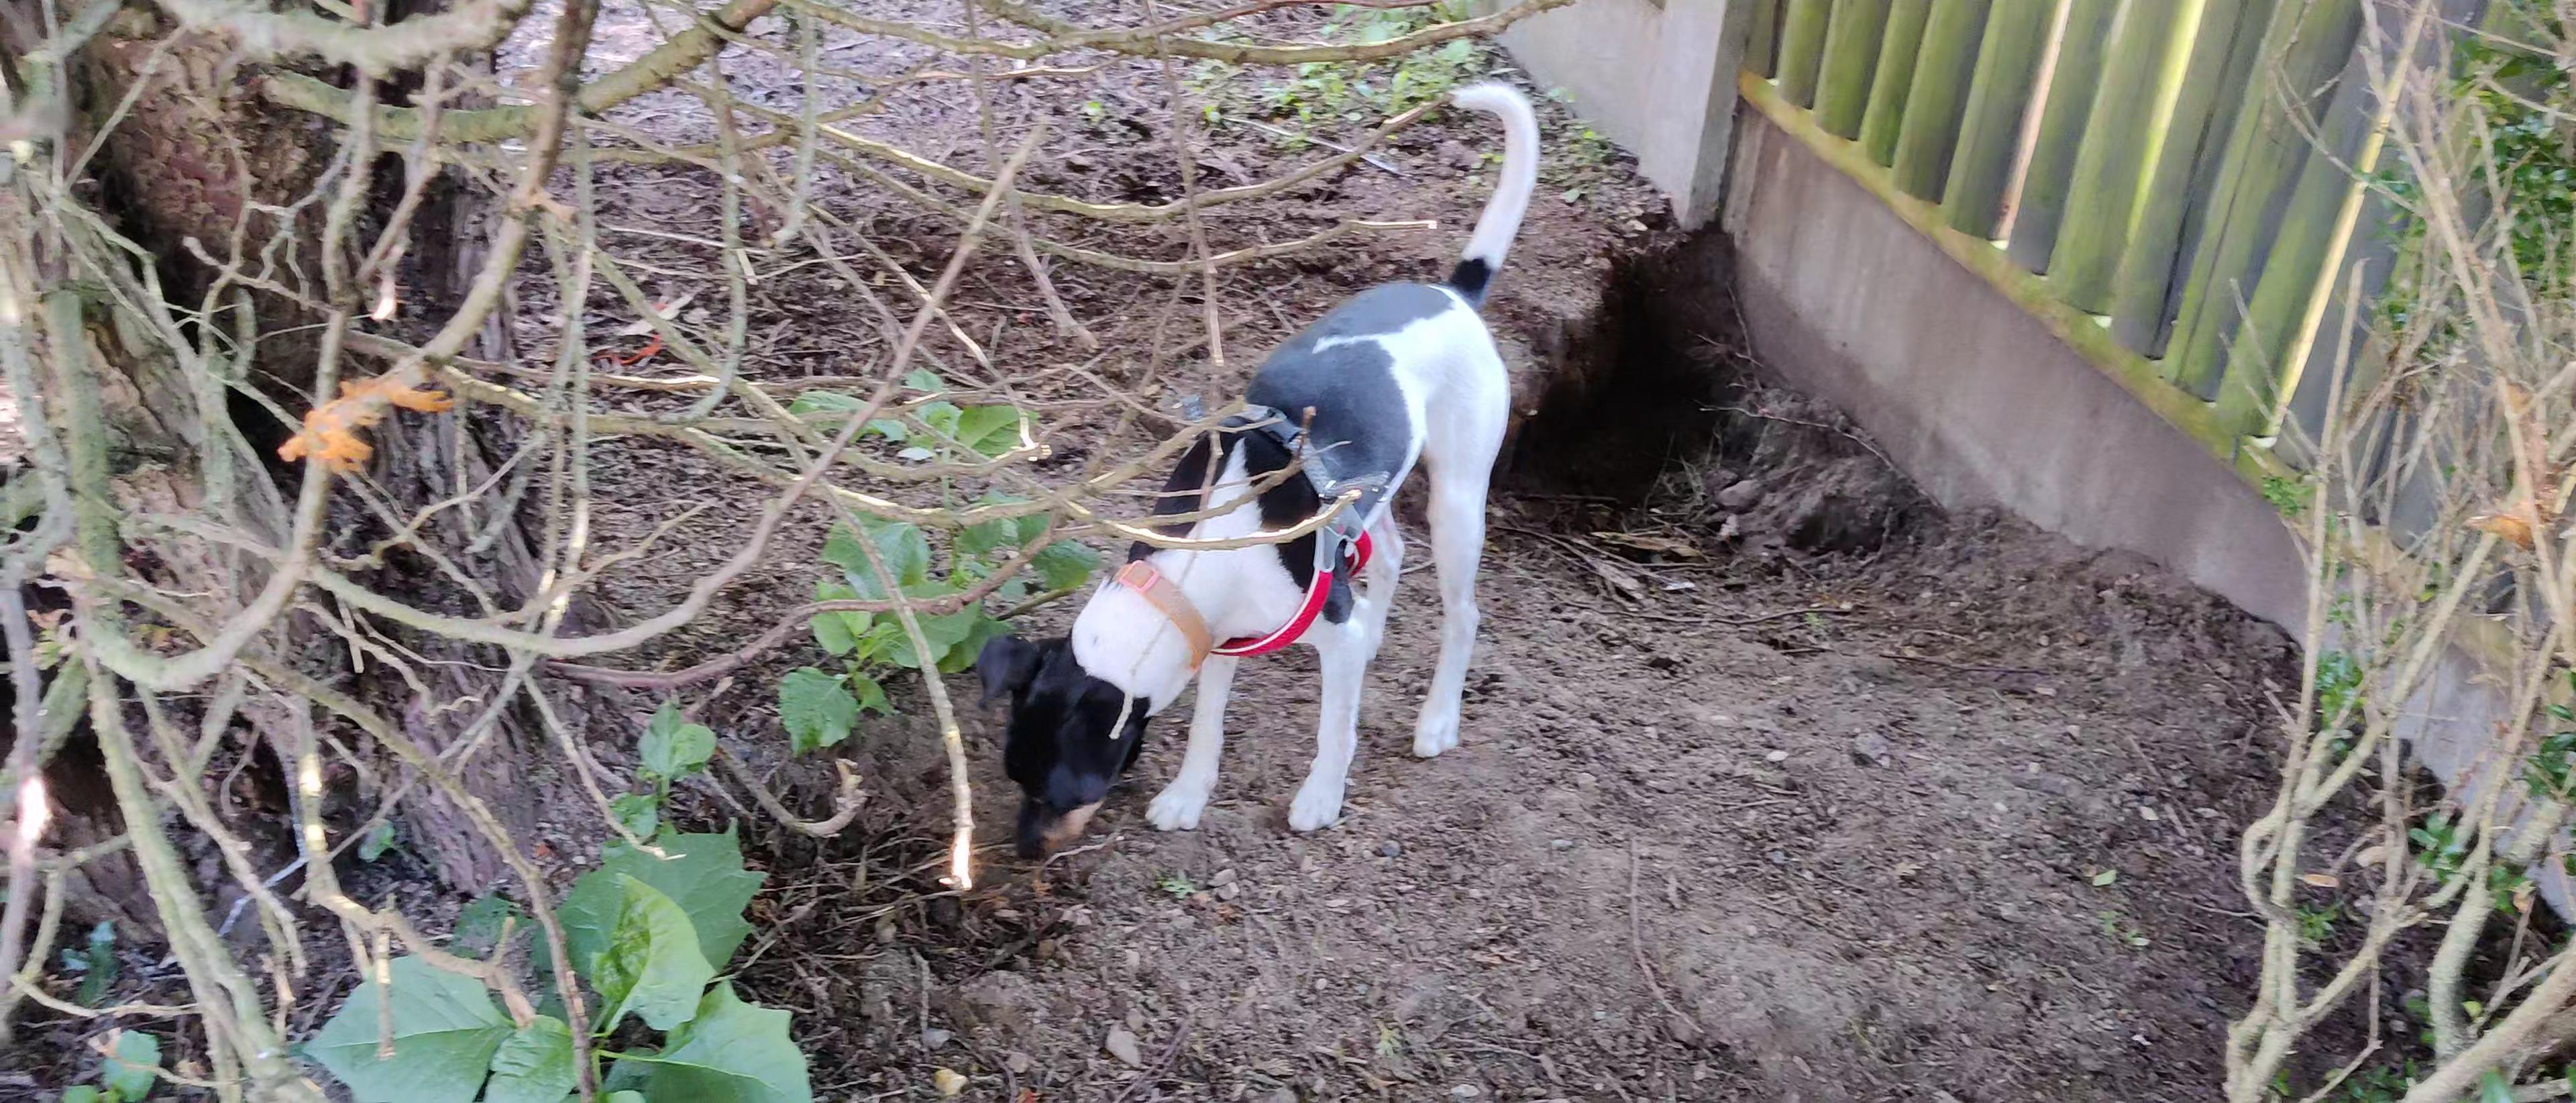Dog: (946, 66, 1559, 914)
